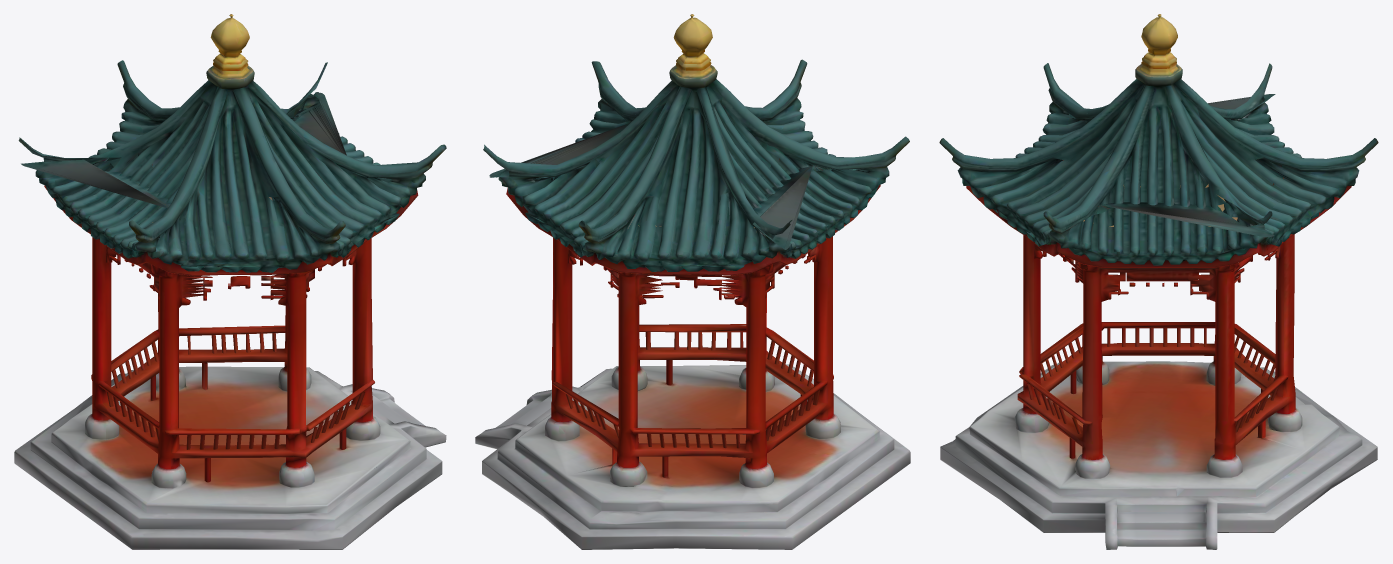
The model's file is pavilion.glb.
The picture shows the model from 3 angles, left to right: view 1: azimuth 30°, elevation 25°; view 2: azimuth 150°, elevation 25°; view 3: azimuth 270°, elevation 25°; orthographic projection.
Parts seen in each view (by area): view 1: tripo_node_e49a99cb-db81-427c-a17b-9181916624b5; view 2: tripo_node_e49a99cb-db81-427c-a17b-9181916624b5; view 3: tripo_node_e49a99cb-db81-427c-a17b-9181916624b5.
Boxes of the visible parts, x1,y1,x2,y2 form: tripo_node_e49a99cb-db81-427c-a17b-9181916624b5: (14, 14, 446, 549); tripo_node_e49a99cb-db81-427c-a17b-9181916624b5: (475, 14, 910, 549); tripo_node_e49a99cb-db81-427c-a17b-9181916624b5: (939, 14, 1378, 549).
Bounding box in the file's own units: 0.7985 × 0.9961 × 0.8904.
Materials: 1 (1 with a texture image).
